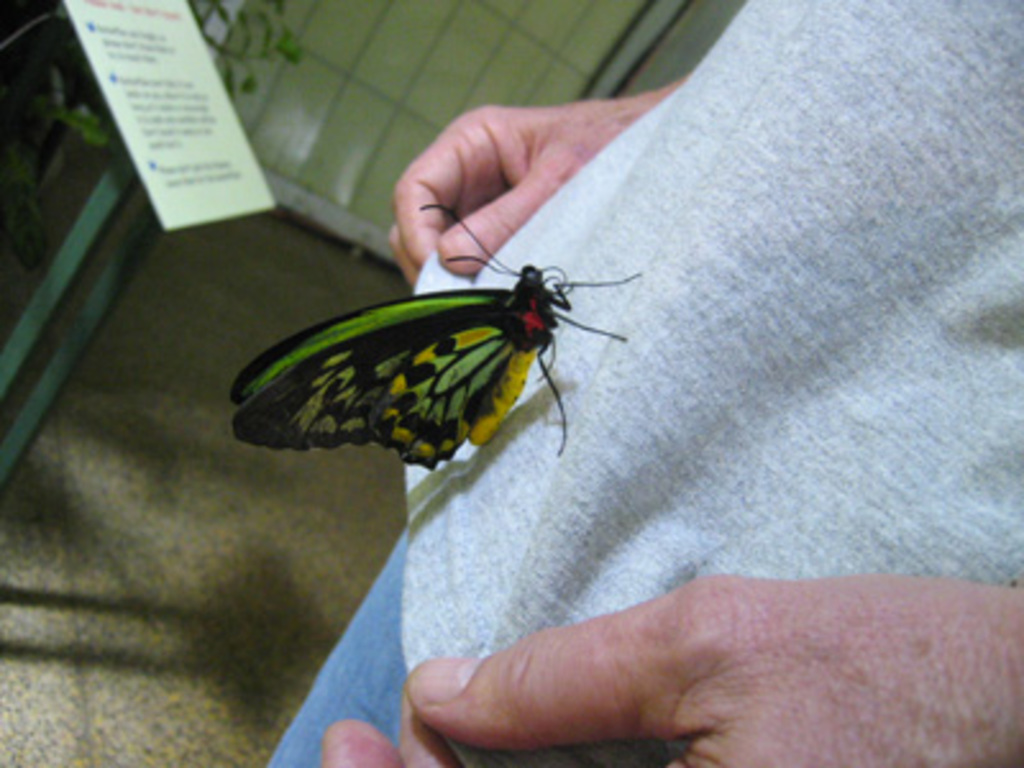Butterfly: (227, 259, 626, 502)
